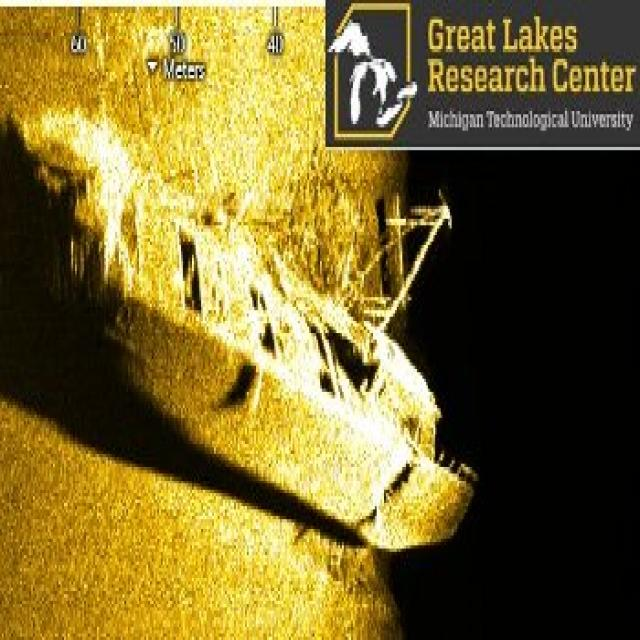ship: (14, 107, 473, 548)
